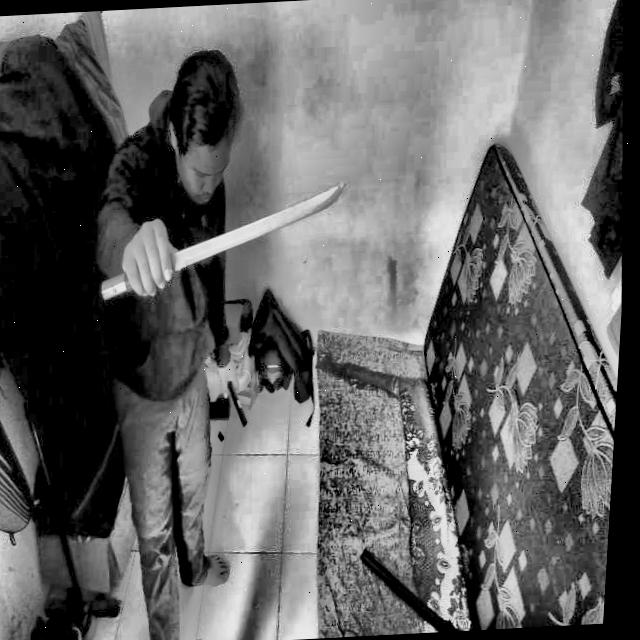pisau: (77, 176, 358, 310)
